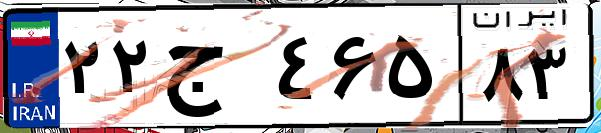2: (57, 26, 110, 100), (110, 28, 158, 98)
3: (525, 38, 570, 115)
4: (270, 28, 330, 110)
5: (385, 28, 445, 110)
6: (330, 28, 385, 110)
8: (475, 38, 525, 113)
ج: (158, 20, 270, 120)
